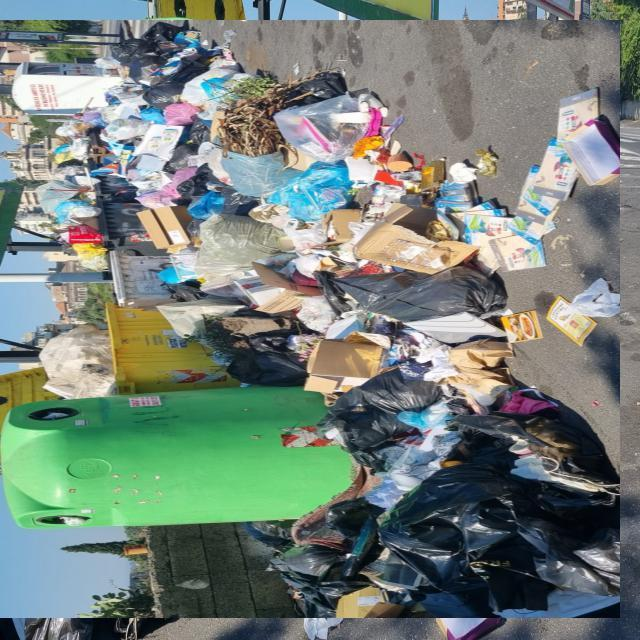Trashbag: (379, 466, 621, 603), (316, 269, 508, 364), (263, 497, 371, 623), (316, 371, 476, 448), (230, 338, 310, 389), (142, 68, 214, 114), (288, 64, 348, 111), (163, 119, 211, 174), (110, 35, 158, 72), (177, 163, 216, 203), (145, 17, 191, 44)
